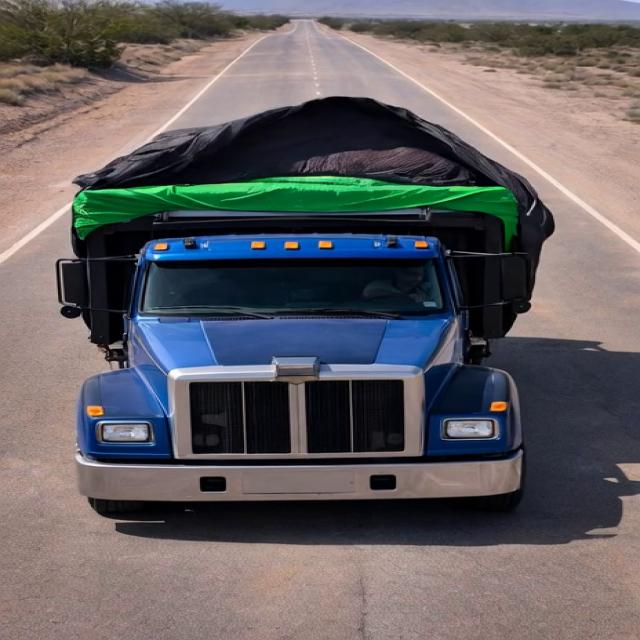trailer: (56, 99, 541, 224)
truck: (39, 70, 604, 520)
